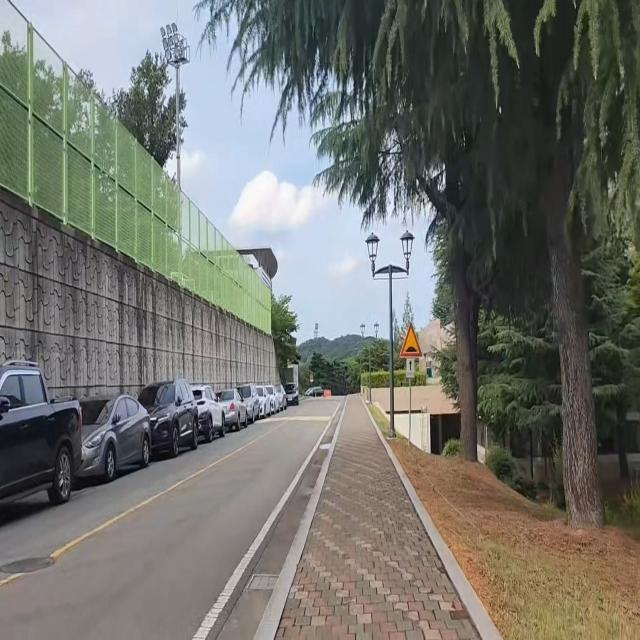road: (0, 400, 343, 640)
sidewalk: (255, 396, 503, 640)
